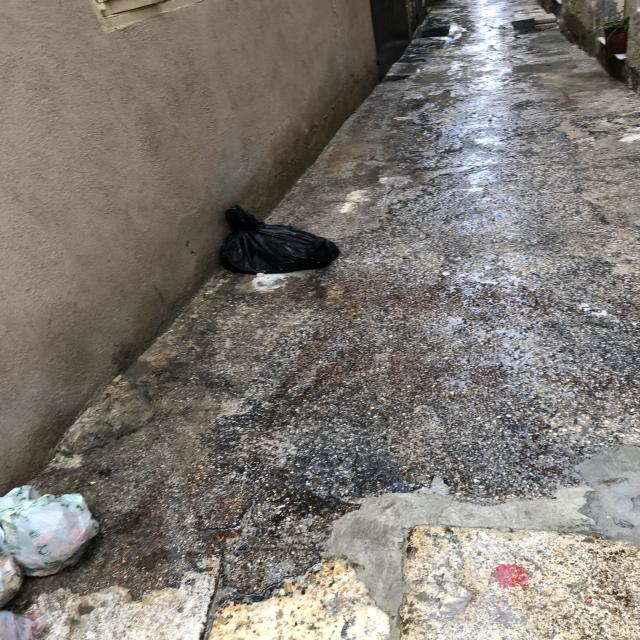Mixed Waste -Black Bag-: (211, 199, 346, 283)
Organic Waste -White Bag-: (1, 481, 101, 582), (1, 553, 37, 614), (1, 614, 38, 640)
